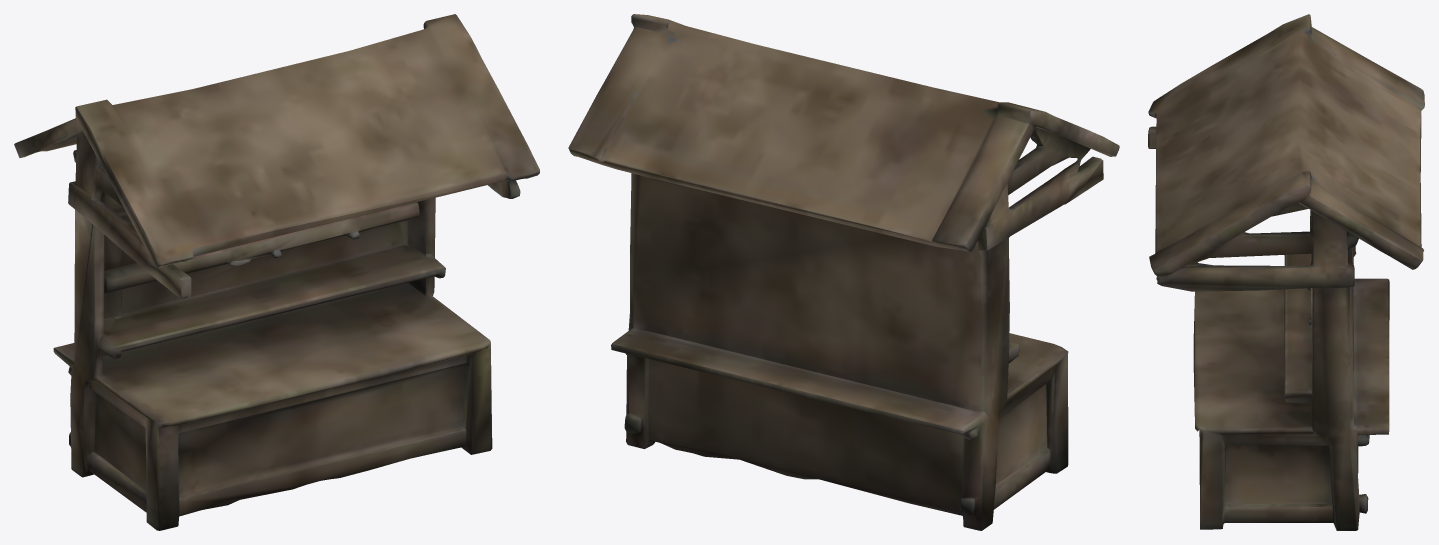
Rendered from rustic-wood-market-stall-v001.glb.
The picture shows the model from 3 angles, left to right: view 1: azimuth 30°, elevation 25°; view 2: azimuth 150°, elevation 25°; view 3: azimuth 270°, elevation 25°; orthographic projection. The views are drawn at different scales.
Parts seen in each view (by area): view 1: rustic-wood-market-stall; view 2: rustic-wood-market-stall; view 3: rustic-wood-market-stall.
Part boxes in pixels (x1,y1,x2,y2): rustic-wood-market-stall: (14, 14, 539, 530); rustic-wood-market-stall: (568, 14, 1119, 530); rustic-wood-market-stall: (1148, 14, 1424, 530).
Bounding box in the file's own units: 2.33 × 2.27 × 1.59.
Materials: 1 (1 with a texture image).
